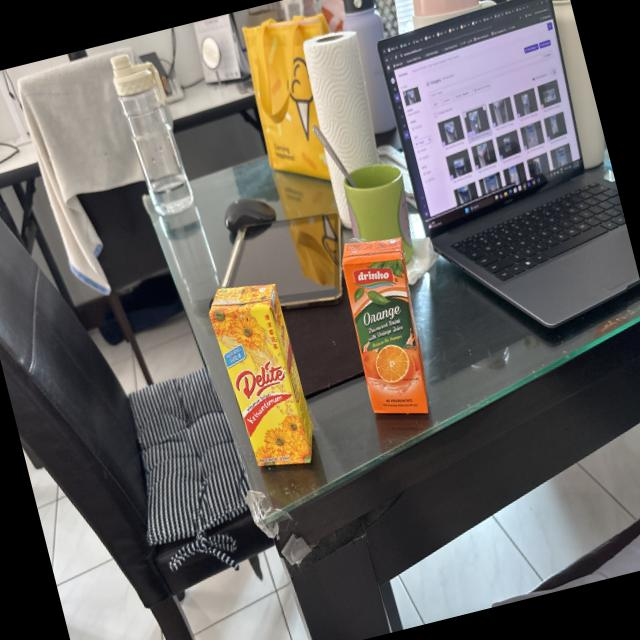drink_carton: (200, 268, 328, 487), (325, 220, 450, 434)
